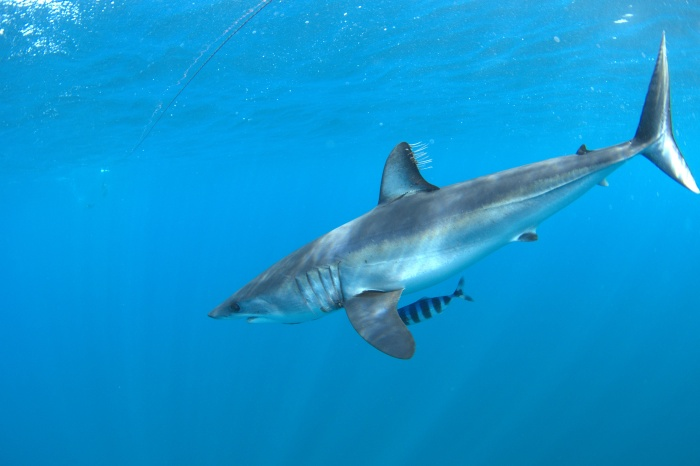Mako: (200, 25, 699, 363)
